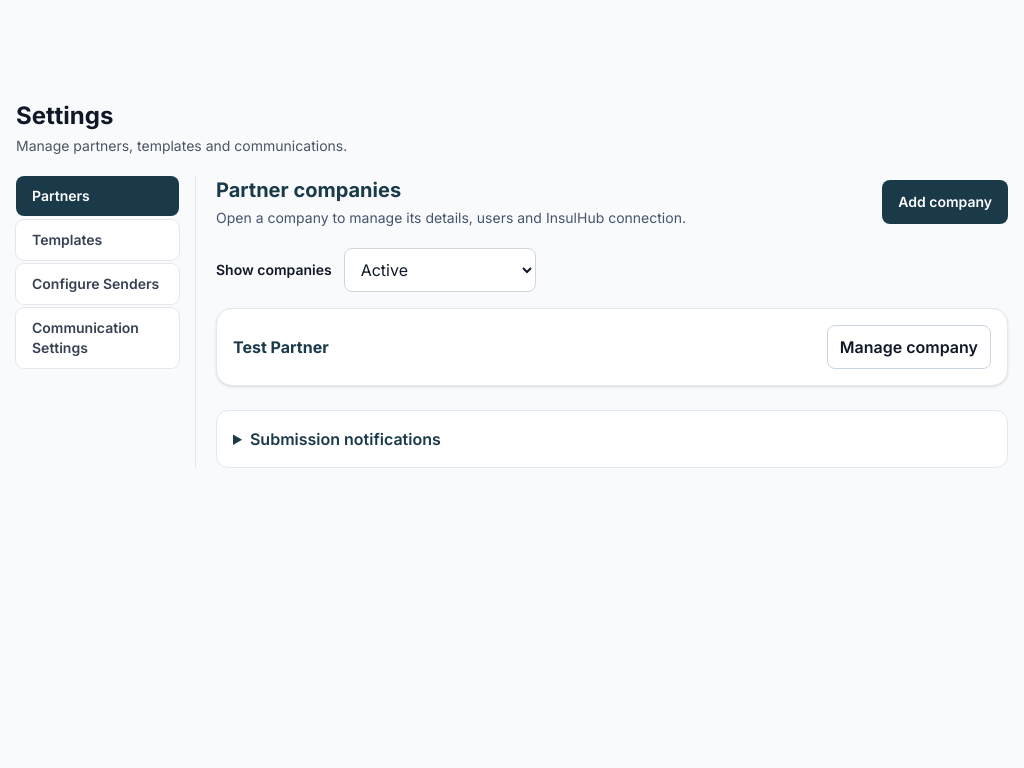
Scenario: Partners within normal InsulHub Settings › retains the existing Settings sections and loads their data only when selected
This screenshot has width=1024, height=768.
Expected: the heading "Test Partner" is shown, [233,335,329,359]
Click the button "Templates": x=98, y=240 [16,220,179,260]
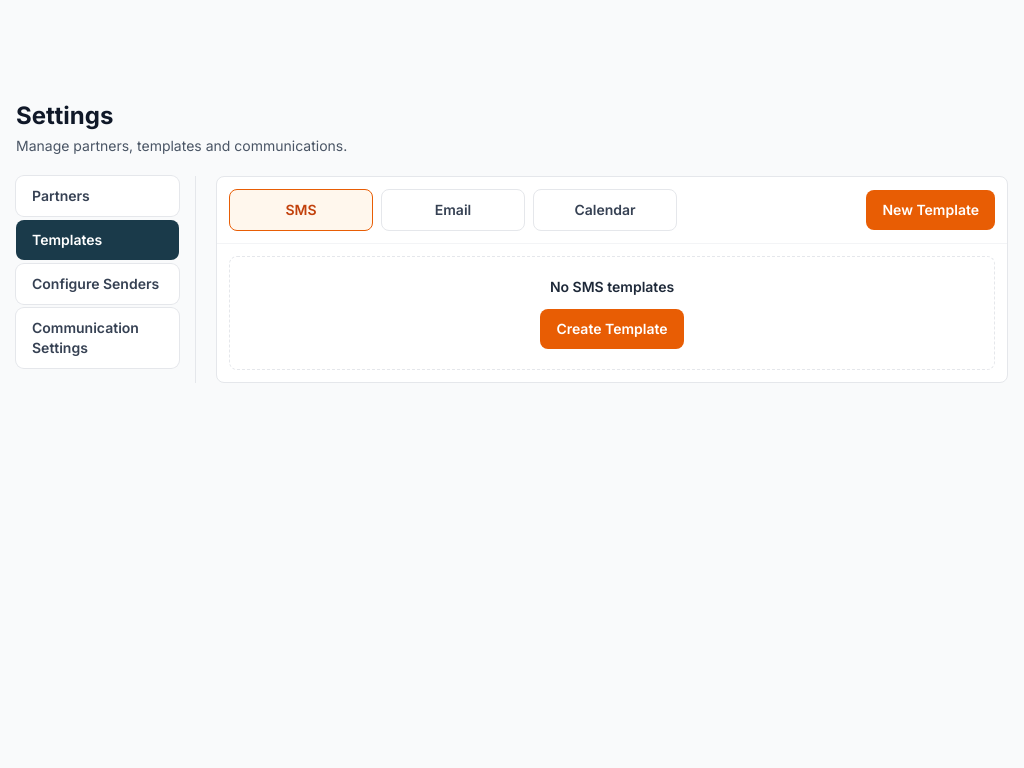
Click the button "Configure Senders": x=98, y=284 [16,264,179,304]
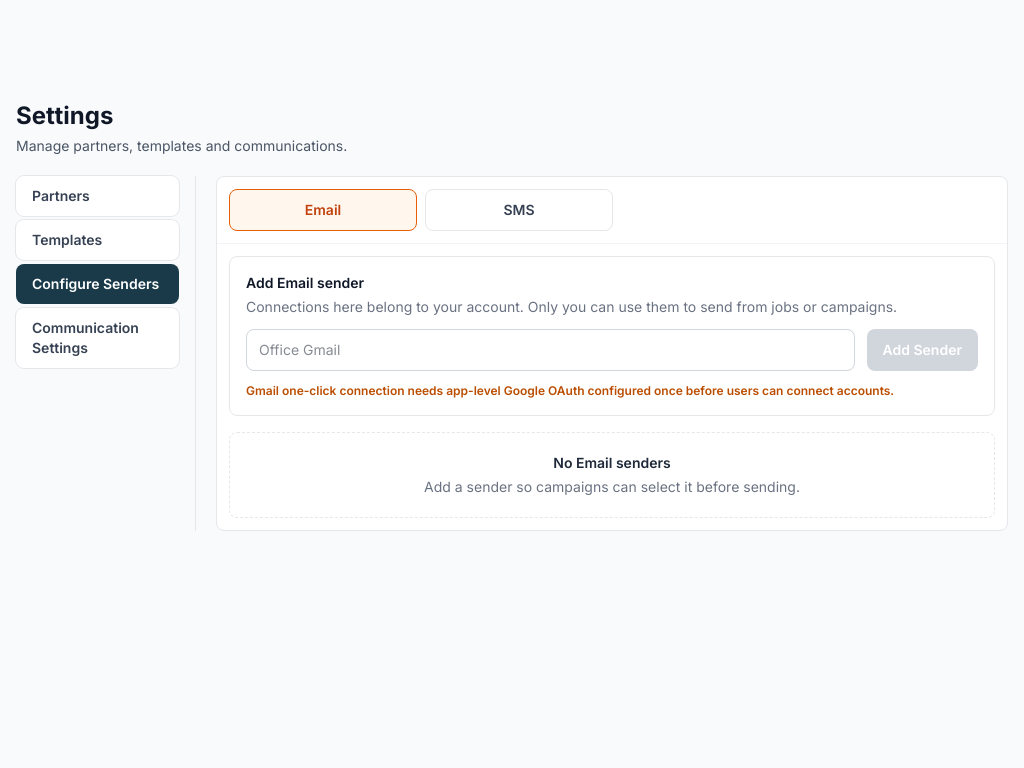
Click the button "Communication Settings": x=98, y=338 [16,308,179,368]
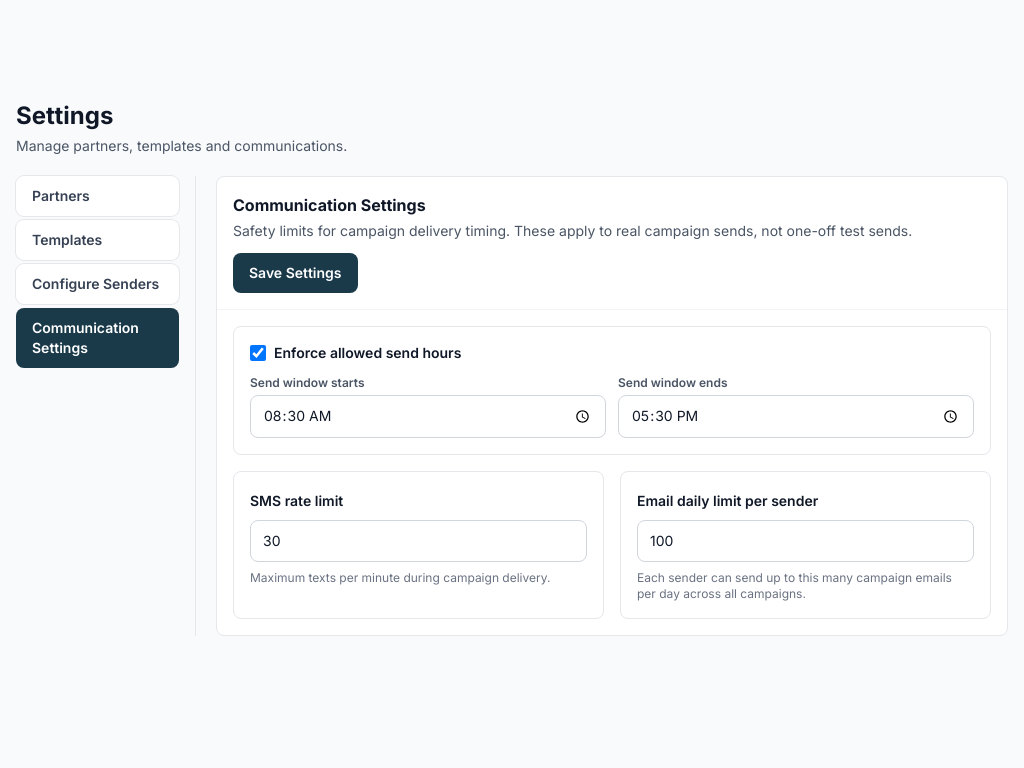
Click the button "Partners": x=98, y=196 [16,176,179,216]
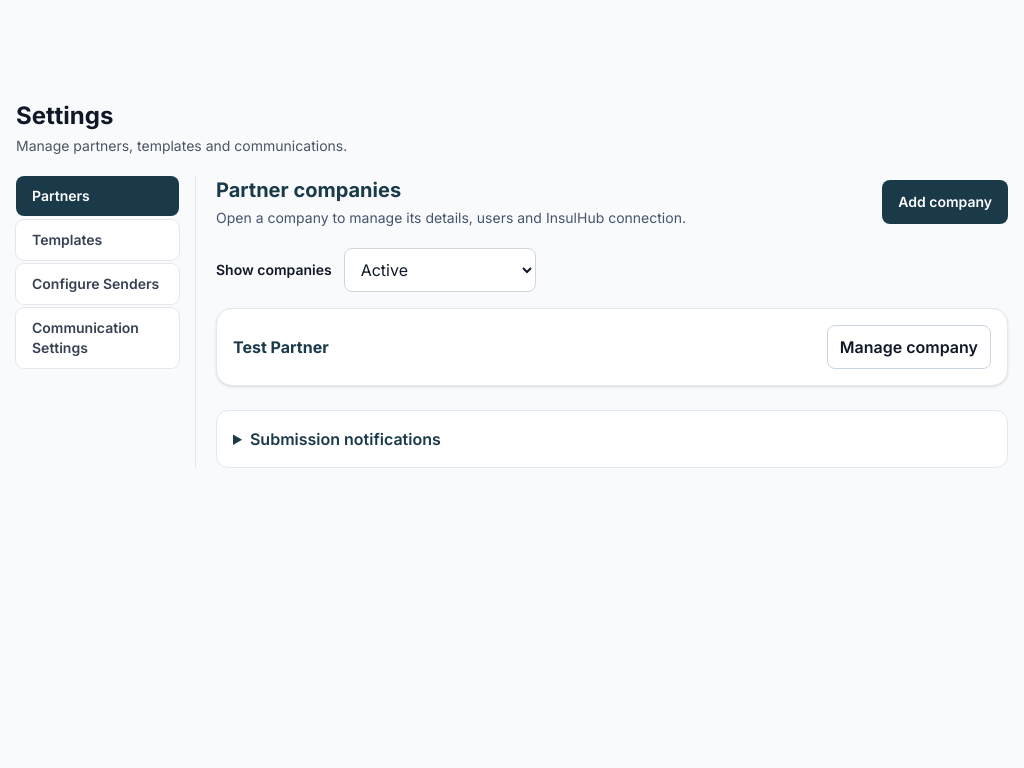
Now the heading "Test Partner" is shown, box [233,335,329,359]
